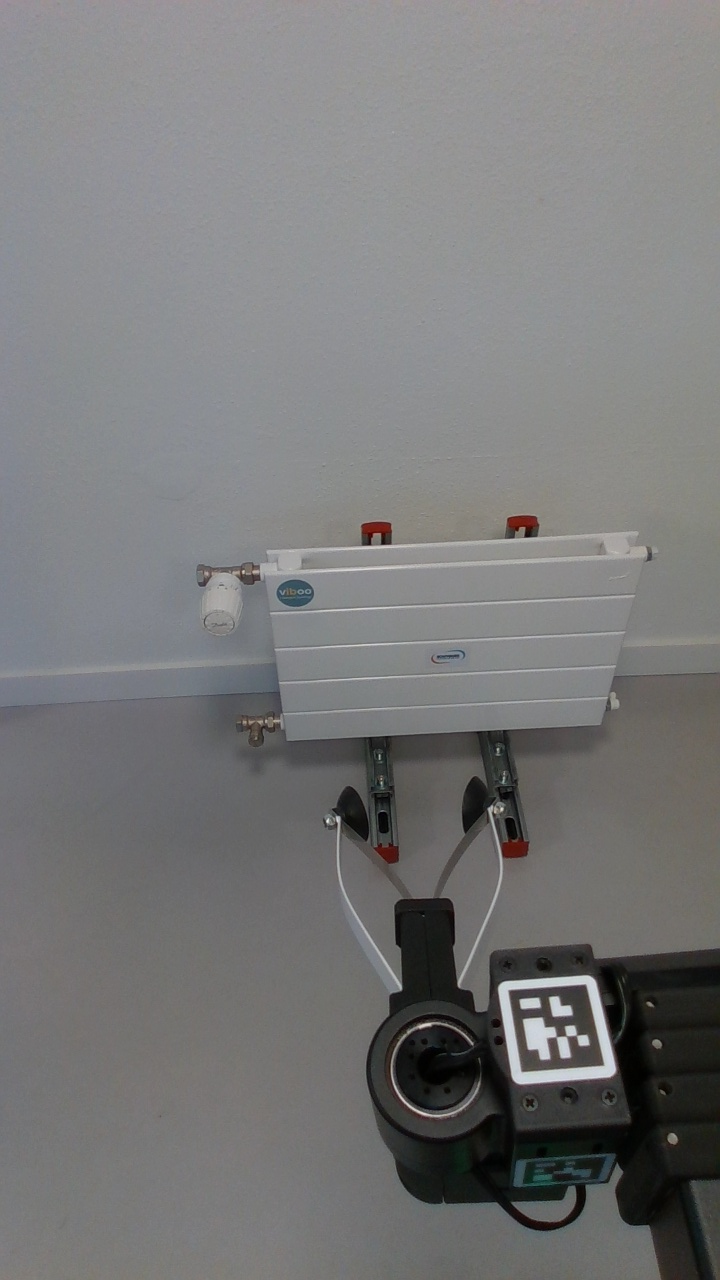Knob_Radiator: (187, 555, 261, 647)
Radiator: (244, 521, 663, 754)
